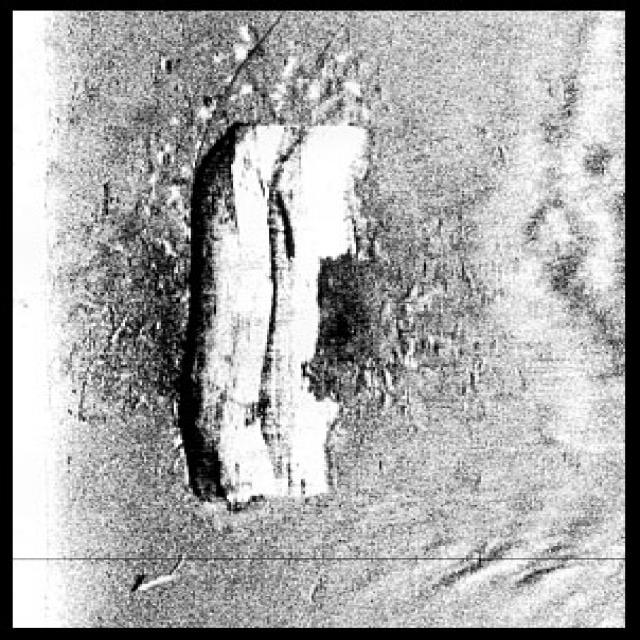shipwreck: (186, 112, 380, 499)
